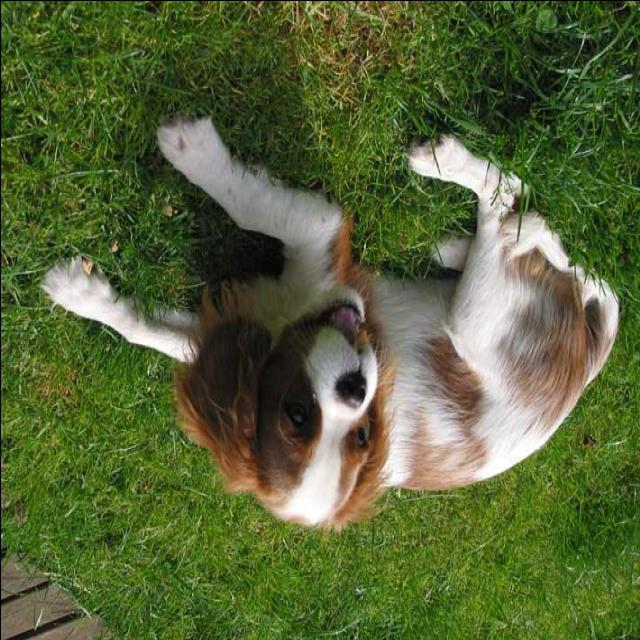blenheim_spaniel: (39, 111, 620, 534)
